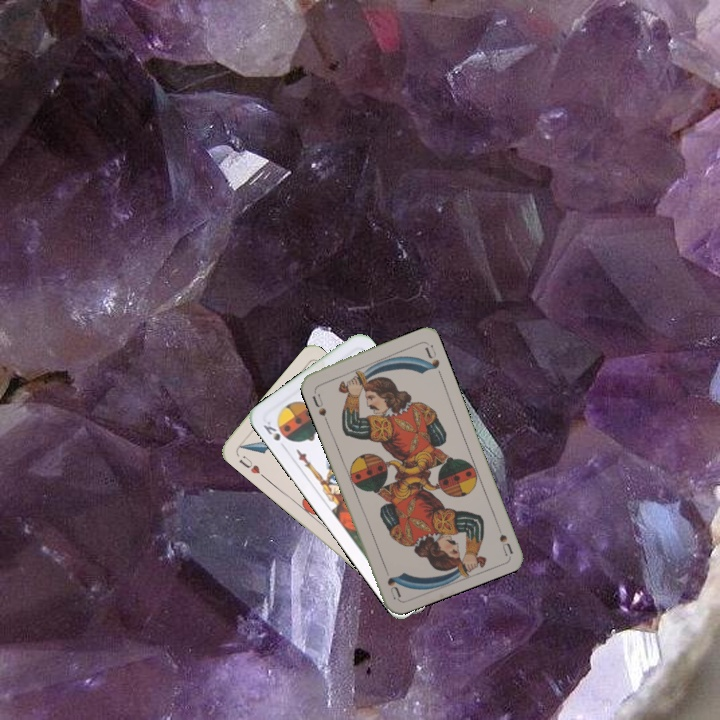HU: (235, 452, 267, 480)
SK: (259, 417, 289, 452)
SU: (491, 517, 515, 557), (308, 385, 329, 418)
